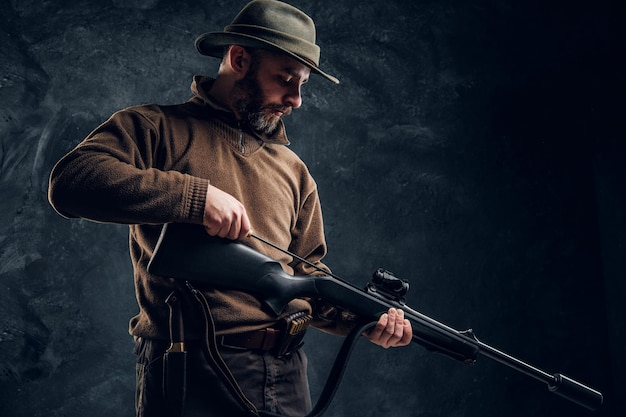gun: (145, 211, 604, 406)
